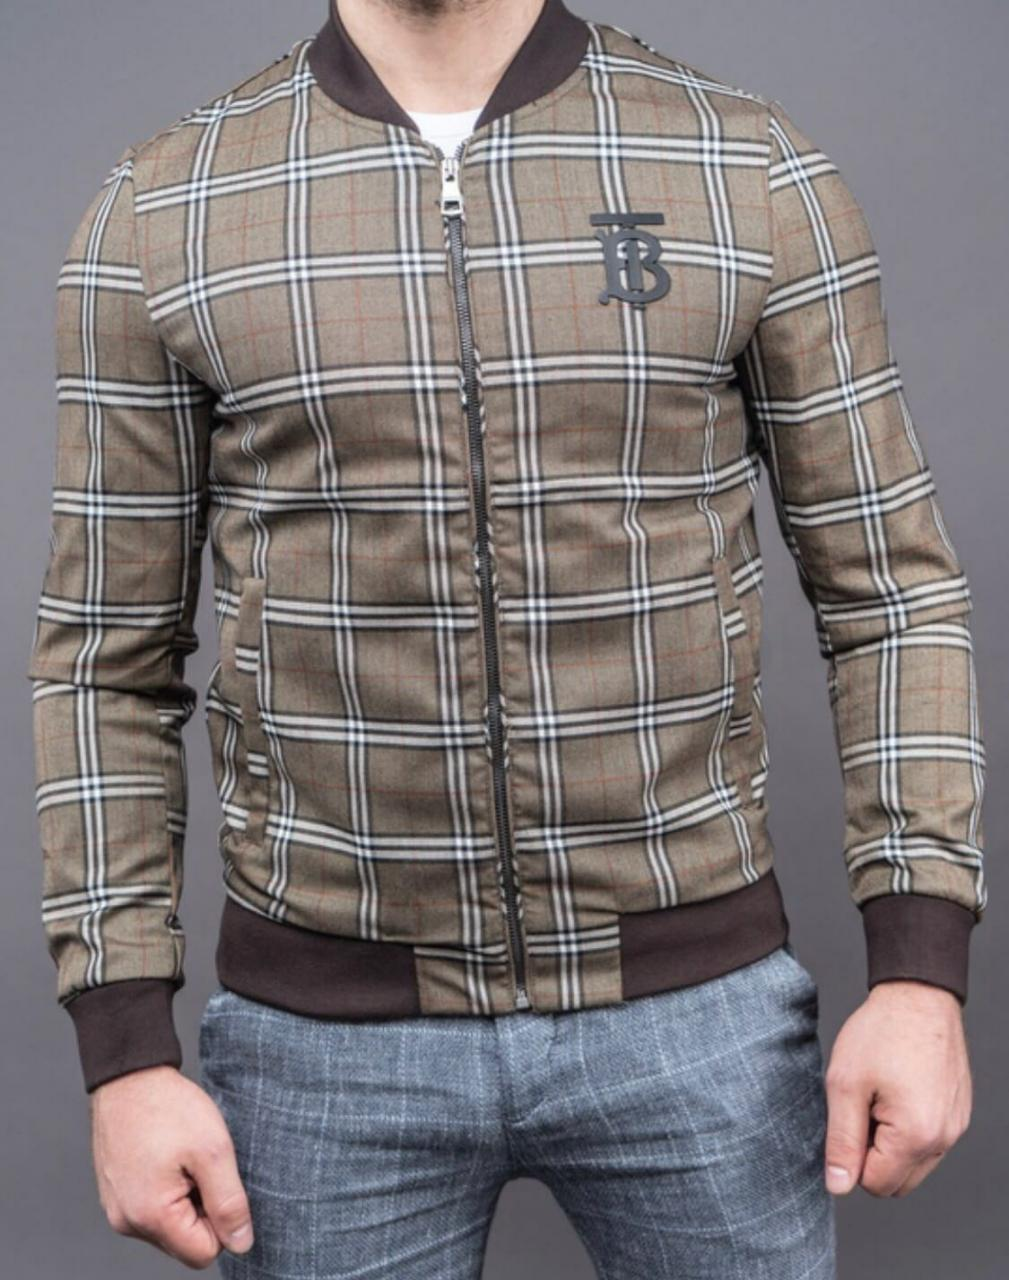squared: (27, 34, 989, 1066)
